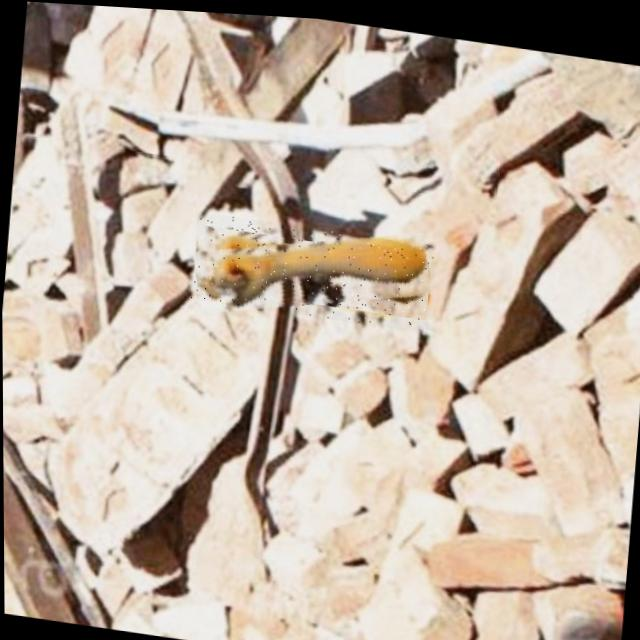Person in Rubble: (190, 208, 434, 327)
